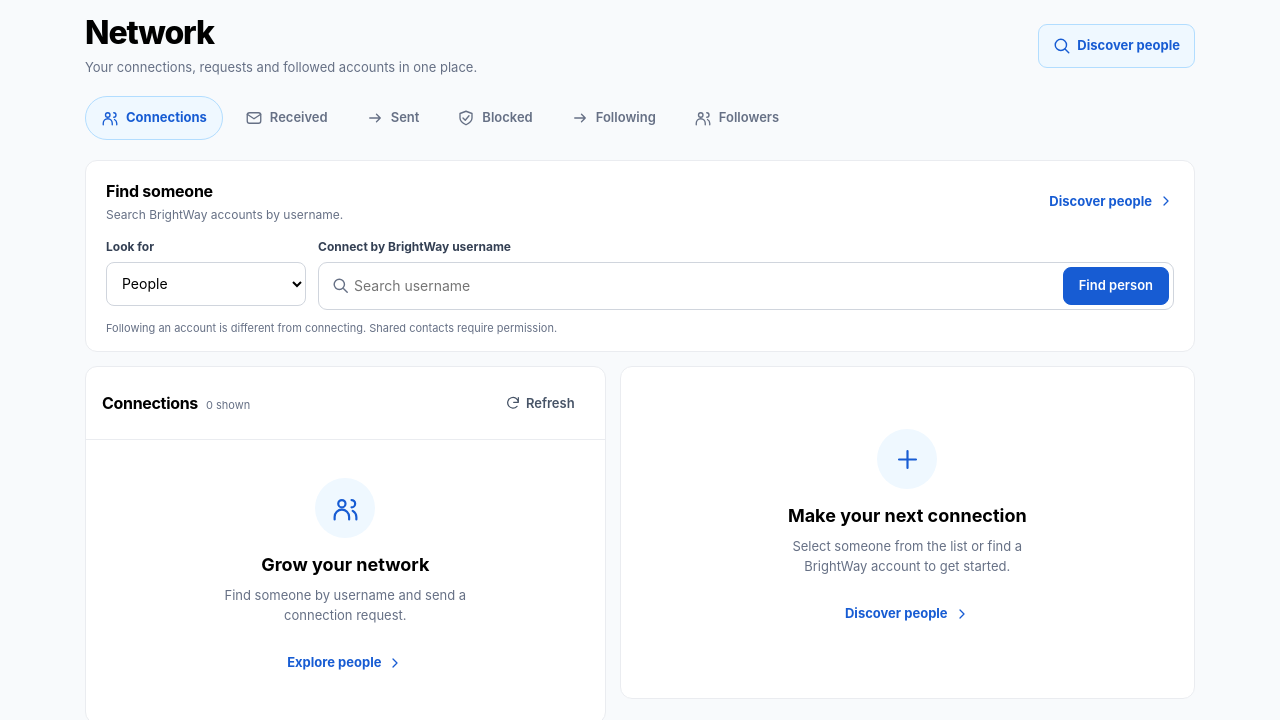
uses an explicit organization target without personal connection or workspace-authority controls
expect the button "Find person" is enabled: met, box [1063,267,1169,305]
Select "Organizations" in the dropdown labelled "Look for" at x=206, y=284, box [106,262,306,306]
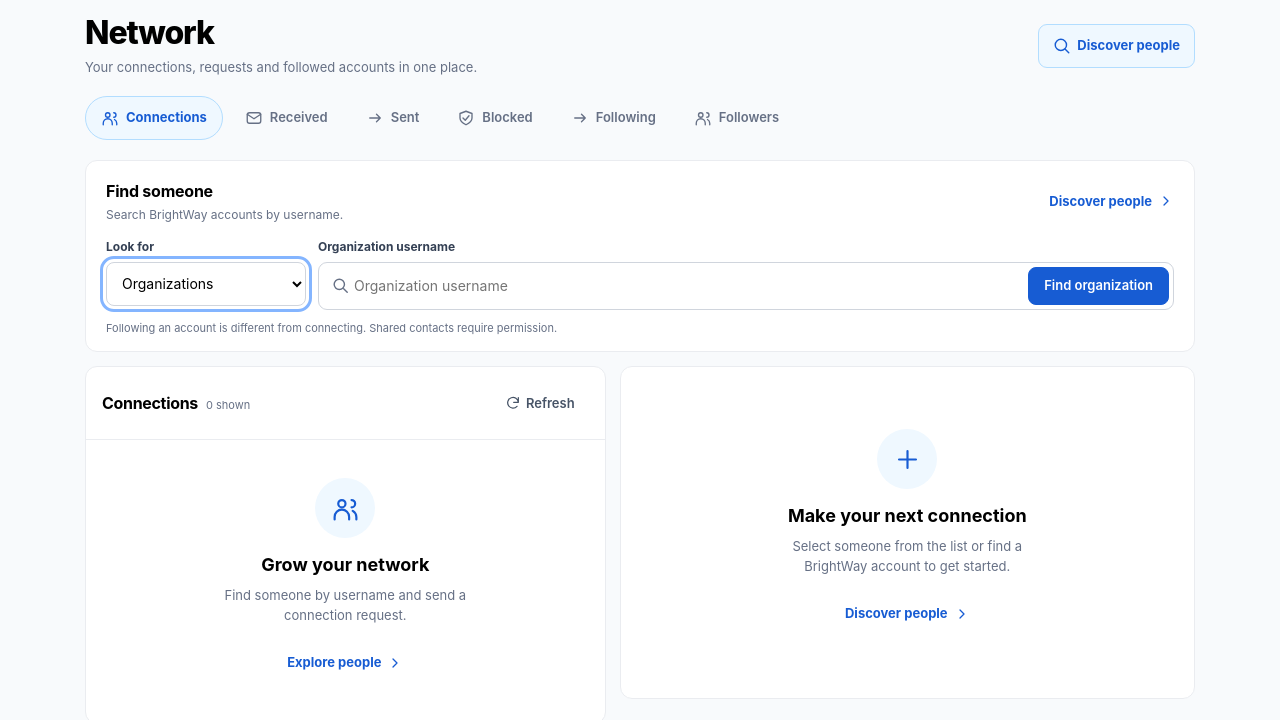
Type "school" into the field labelled "Organization username".
click(687, 286); type("school")  # box [354,264,1020,308]
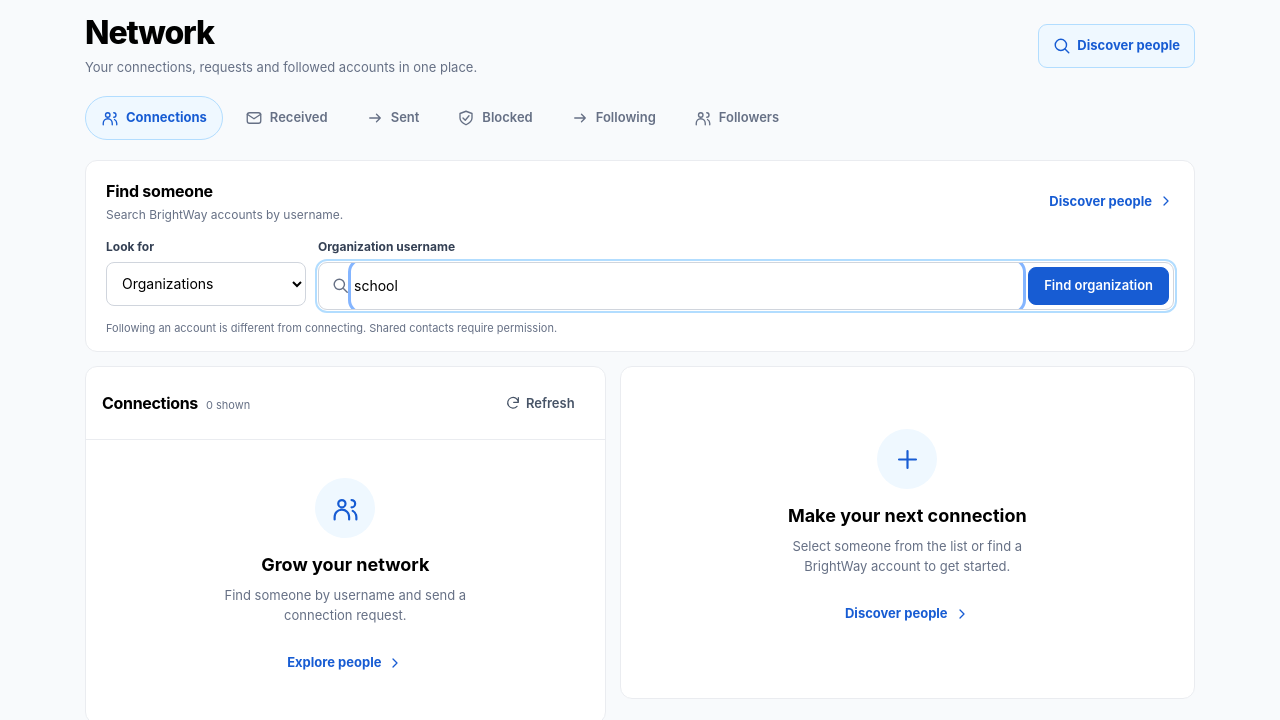
Click the button "Find organization".
click(1099, 286)  # box [1028,267,1169,305]
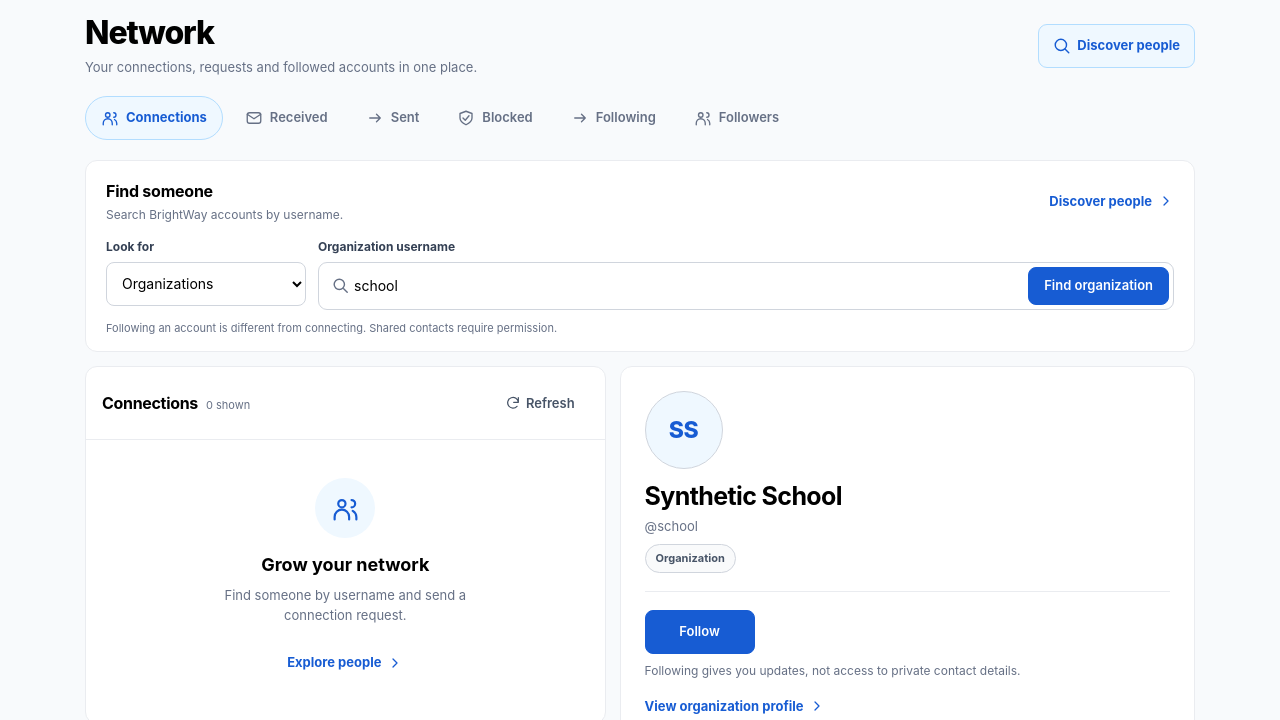
expect the heading "Synthetic School" is shown: met, box [645,480,842,513]
Click the button "Follow".
click(700, 632)  # box [645,610,755,654]
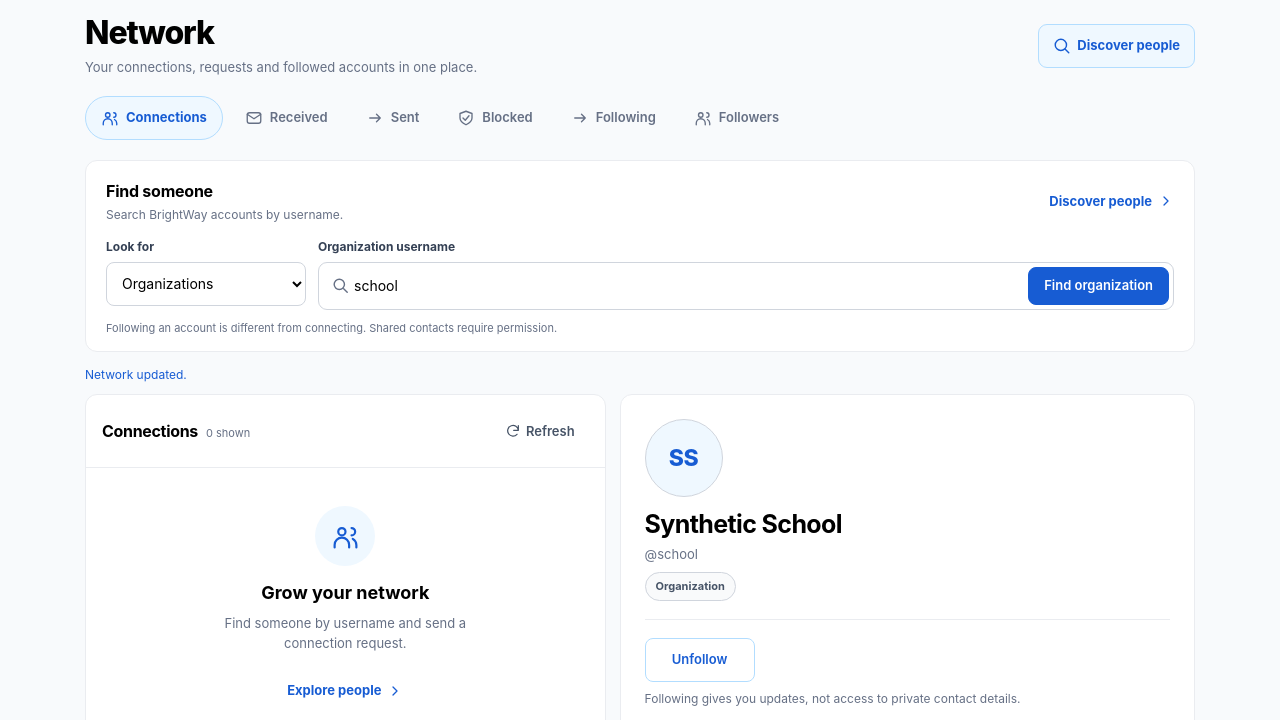
expect the button "Unfollow" is shown: met, box [645,638,755,682]
